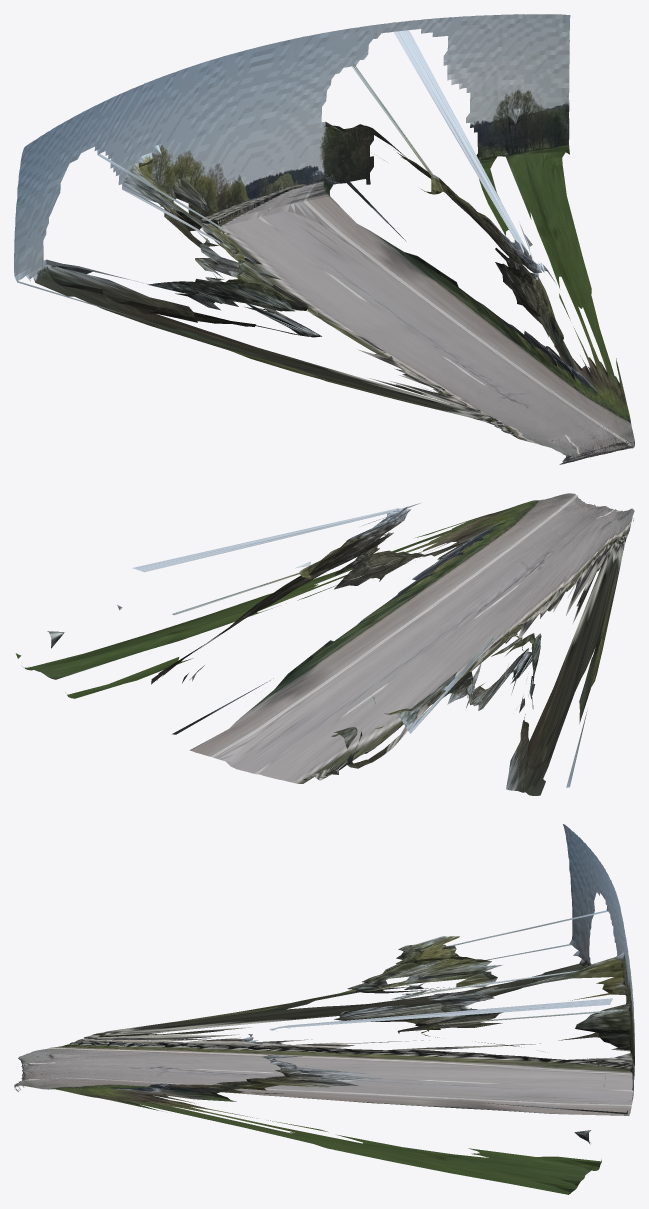
3 views of the same model, one above another, from view 1: azimuth 30°, elevation 25°; view 2: azimuth 150°, elevation 25°; view 3: azimuth 270°, elevation 25° (orthographic). The views are drawn at different scales.
Visible parts, largest first — view 1: defaultobject; view 2: defaultobject; view 3: defaultobject.
Boxes of the visible parts, x1=… form: defaultobject: x1=14, y1=14, x2=634, y2=464; defaultobject: x1=15, y1=493, x2=634, y2=795; defaultobject: x1=14, y1=824, x2=634, y2=1194.
Bounding box in the file's own units: 41.16 × 12.47 × 44.6.
1 material, 1 textured.
